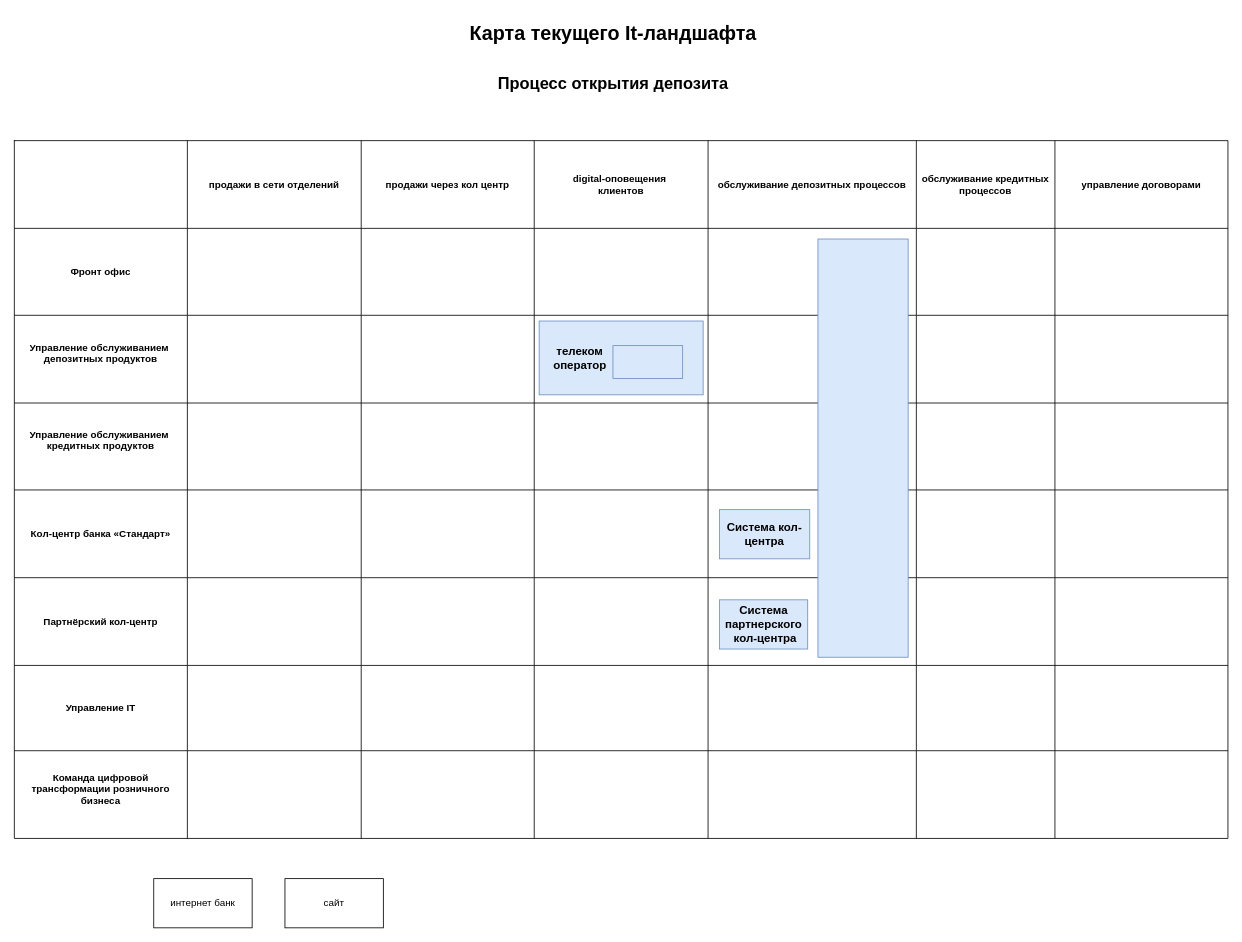
Some shapes in this 1242 by 942 pixel diagram are drawn without their labels. The shapes that lost their labels are listed below. From the top down, each one's centre as x and y in pixels, then its label:
the point at 647,361: Смс шлюз
the point at 862,447: АБС
